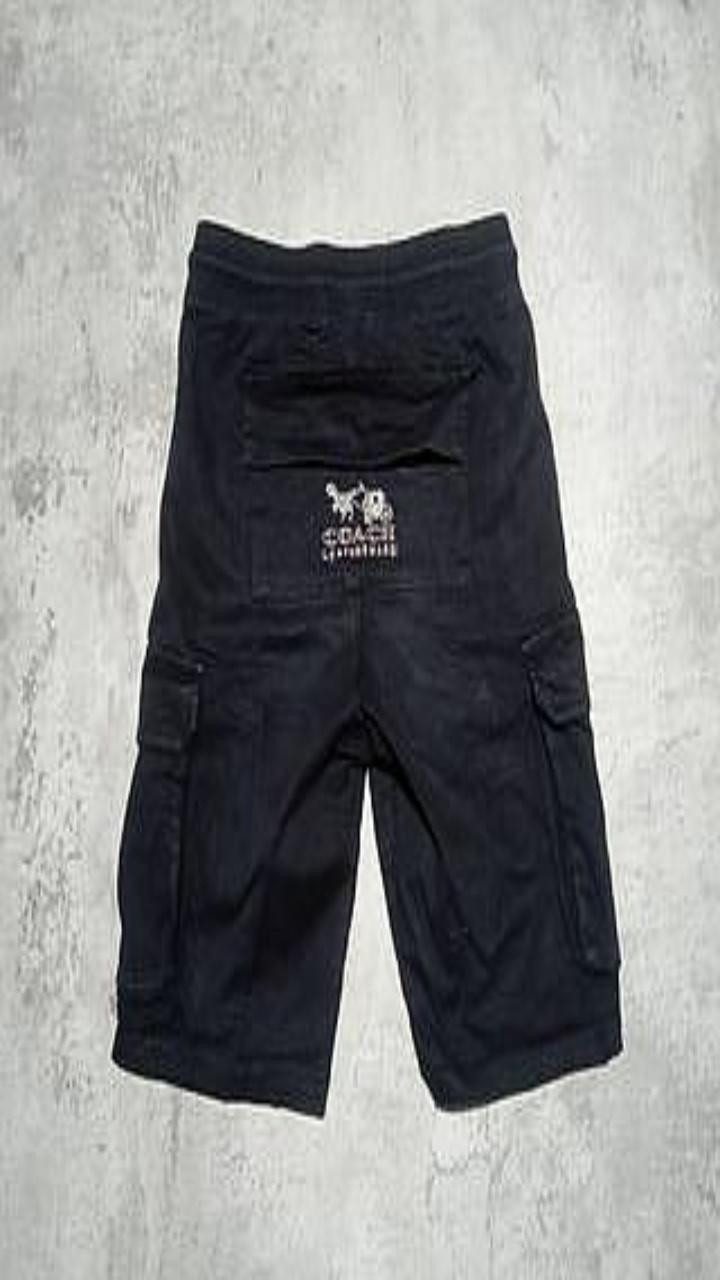Shorts: (112, 213, 621, 1115)
